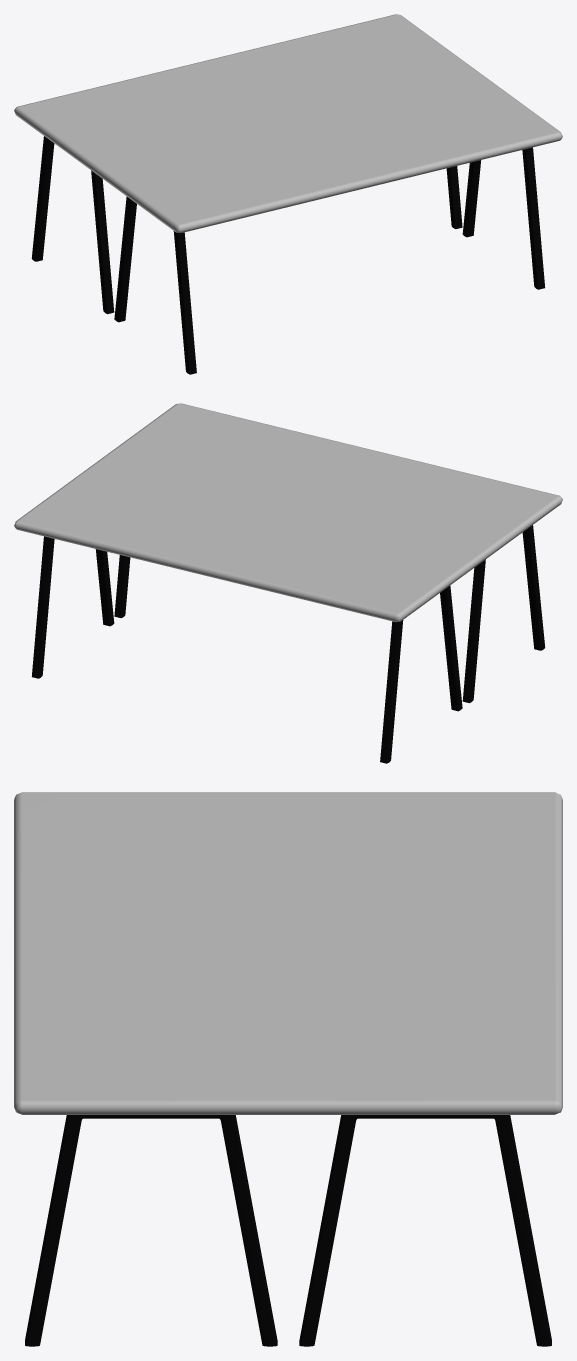
The model's file is table.glb.
The picture shows the model from 3 angles, top to bottom: view 1: azimuth 30°, elevation 25°; view 2: azimuth 150°, elevation 25°; view 3: azimuth 270°, elevation 25°; orthographic projection. The views are drawn at different scales.
Visible parts, largest first — view 1: tableTop table_stretched, table_stretched leg_R_F, table_stretched leg_R_B, table_stretched leg_L_F, table_stretched leg_L_B; view 2: tableTop table_stretched, table_stretched leg_R_B, table_stretched leg_R_F, table_stretched leg_L_B, table_stretched leg_L_F; view 3: tableTop table_stretched, table_stretched leg_L_B, table_stretched leg_L_F.
Boxes of the visible parts, x1,y1,x2,y2 form: tableTop table_stretched: (14,14,562,233); table_stretched leg_R_F: (114,196,196,374); table_stretched leg_R_B: (31,136,114,314); table_stretched leg_L_F: (462,147,545,289); table_stretched leg_L_B: (446,166,462,228); tableTop table_stretched: (14,403,562,622); table_stretched leg_R_B: (380,585,462,763); table_stretched leg_R_F: (462,525,545,703); table_stretched leg_L_B: (31,536,114,678); table_stretched leg_L_F: (114,555,130,617); tableTop table_stretched: (14,792,562,1114); table_stretched leg_L_B: (299,1115,551,1346); table_stretched leg_L_F: (25,1115,277,1346).
Size of the model in its own units: 0.1 by 0.0381 by 0.074.
Materials: 1 (1 with a texture image).
